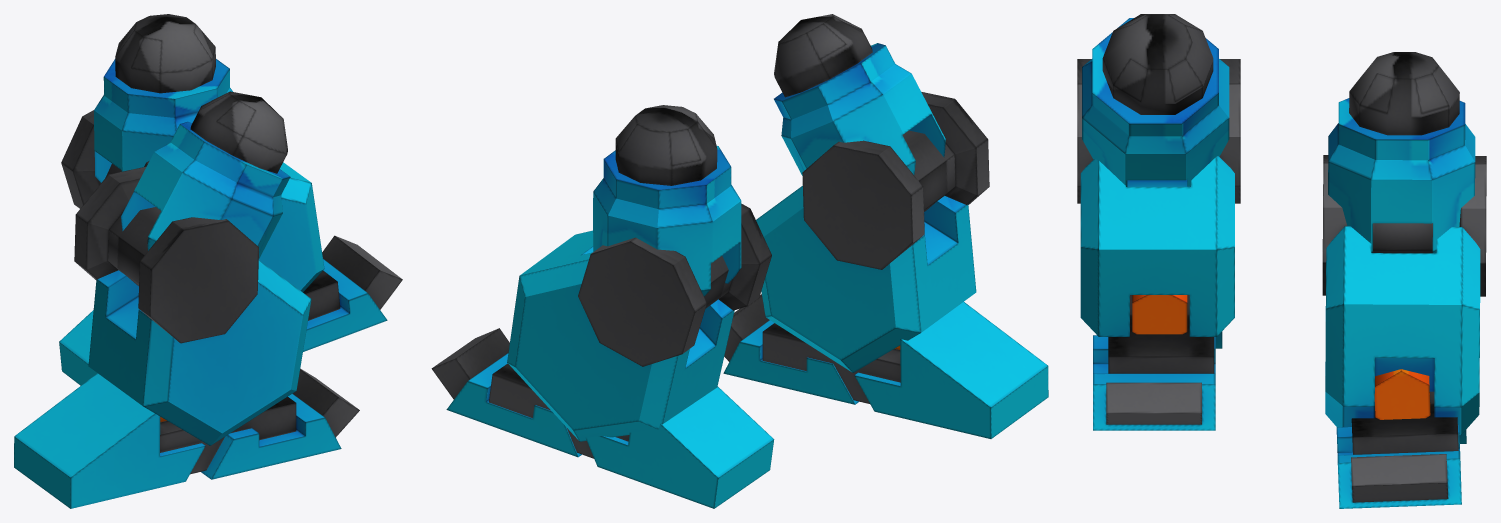
File: Bottom_Idle25.obj
The picture shows the model from 3 angles, left to right: view 1: azimuth 30°, elevation 25°; view 2: azimuth 150°, elevation 25°; view 3: azimuth 270°, elevation 25°; orthographic projection. The views are drawn at different scales.
Parts seen in each view (by area): view 1: Object013, Object014, Object012, Object009, Object011, Object010; view 2: Object013, Object010, Object014, Object011, Object009, Object012; view 3: Object010, Object013, Object009, Object012, Object014, Object011.
Part boxes in pixels (x1=…): Object013: x1=74, y1=166, x2=311, y2=445; Object014: x1=14, y1=368, x2=359, y2=508; Object012: x1=121, y1=91, x2=290, y2=259; Object009: x1=94, y1=14, x2=232, y2=182; Object011: x1=59, y1=235, x2=402, y2=385; Object010: x1=61, y1=110, x2=324, y2=292; Object013: x1=756, y1=92, x2=989, y2=372; Object010: x1=507, y1=203, x2=771, y2=441; Object014: x1=723, y1=294, x2=1048, y2=438; Object011: x1=431, y1=328, x2=774, y2=508; Object009: x1=593, y1=105, x2=741, y2=296; Object012: x1=774, y1=14, x2=945, y2=175; Object010: x1=1322, y1=155, x2=1486, y2=435; Object013: x1=1077, y1=59, x2=1240, y2=336; Object009: x1=1328, y1=52, x2=1475, y2=253; Object012: x1=1082, y1=14, x2=1229, y2=186; Object014: x1=1093, y1=295, x2=1222, y2=430; Object011: x1=1336, y1=369, x2=1466, y2=508.
Bounding box in the file's own units: 129 × 103 × 94.65.
